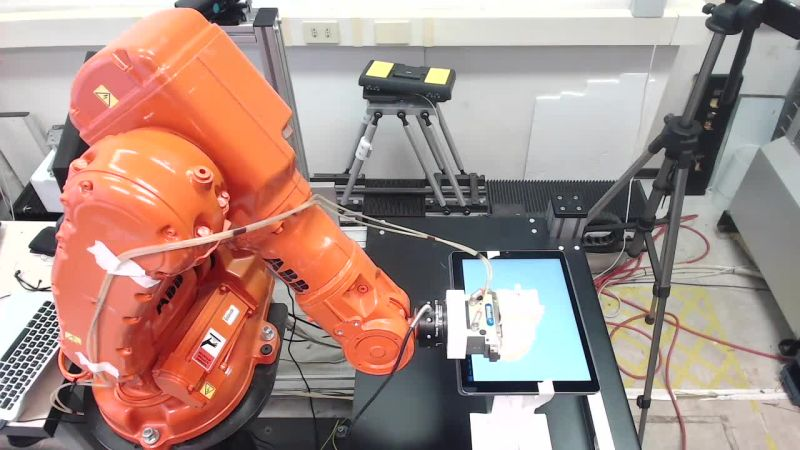robot: (51, 8, 504, 450)
